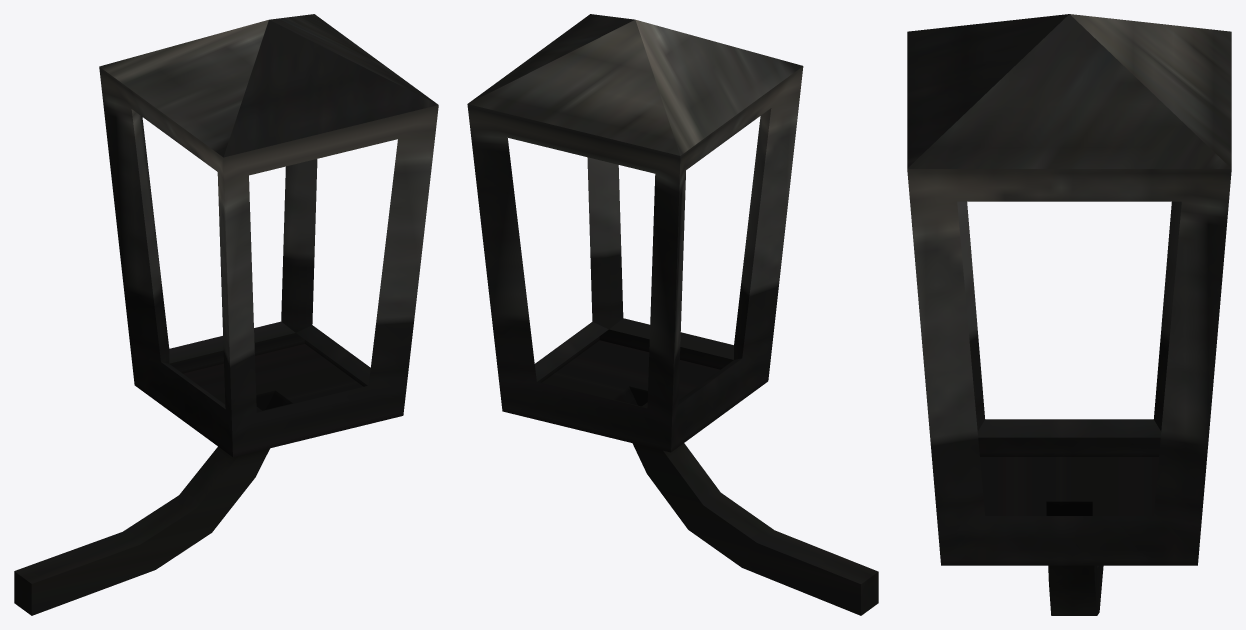
File: WallLamp01.fbx
3 renders of one model, left to right at view 1: azimuth 30°, elevation 25°; view 2: azimuth 150°, elevation 25°; view 3: azimuth 270°, elevation 25°, orthographic. The views are drawn at different scales.
Parts seen in each view (by area): view 1: WallLamp; view 2: WallLamp; view 3: WallLamp.
Part boxes in pixels (left/top/right/bottom): WallLamp: left=14, top=14, right=438, bottom=615; WallLamp: left=467, top=14, right=878, bottom=615; WallLamp: left=907, top=14, right=1231, bottom=615.
Bounding box in the file's own units: 0.1471 × 0.215 × 0.0907.
